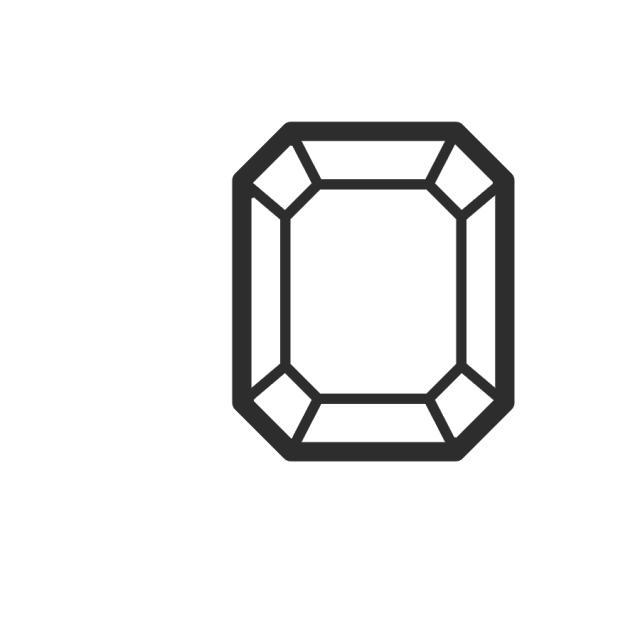emerald: (224, 116, 525, 473)
